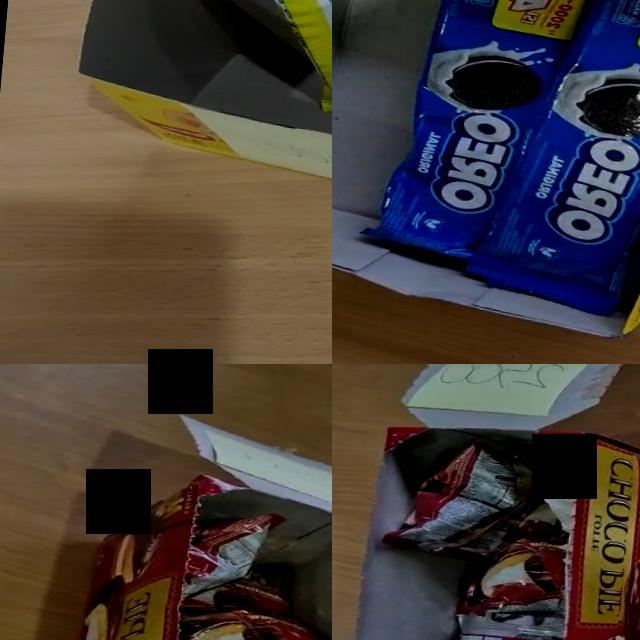Ahh: (226, 0, 332, 118)
Chocopie: (379, 434, 548, 566), (454, 493, 573, 625), (182, 505, 285, 606), (180, 564, 296, 620), (171, 604, 332, 640), (441, 603, 564, 640)
Oreo: (357, 0, 600, 265), (461, 0, 640, 329)
